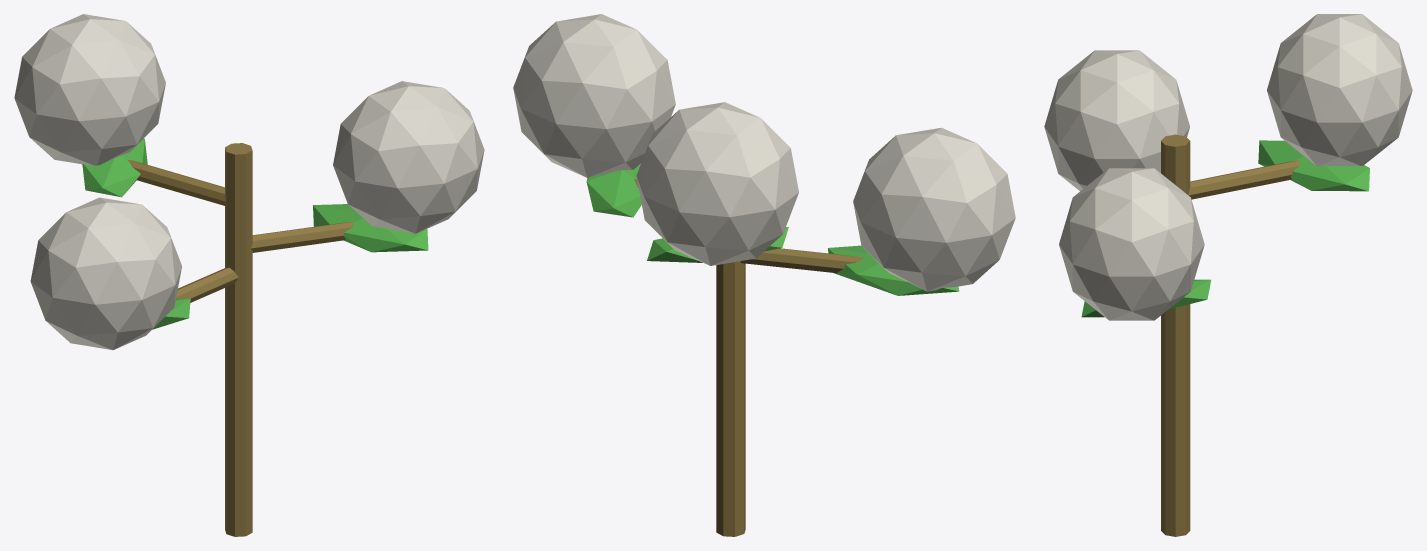
File: Cotton.glb
3 renders of one model, left to right at view 1: azimuth 30°, elevation 25°; view 2: azimuth 150°, elevation 25°; view 3: azimuth 270°, elevation 25°, orthographic. The views are drawn at different scales.
Parts seen in each view (by area): view 1: FTF_Plant_Cotton_Mature_Mesh; view 2: FTF_Plant_Cotton_Mature_Mesh; view 3: FTF_Plant_Cotton_Mature_Mesh.
Boxes of the visible parts, box(x1,y1,x2,y2) form: FTF_Plant_Cotton_Mature_Mesh: box(14, 14, 484, 536); FTF_Plant_Cotton_Mature_Mesh: box(513, 14, 1015, 536); FTF_Plant_Cotton_Mature_Mesh: box(1044, 14, 1412, 536).
Size of the model in its own units: 1.42 by 1.45 by 1.01.
